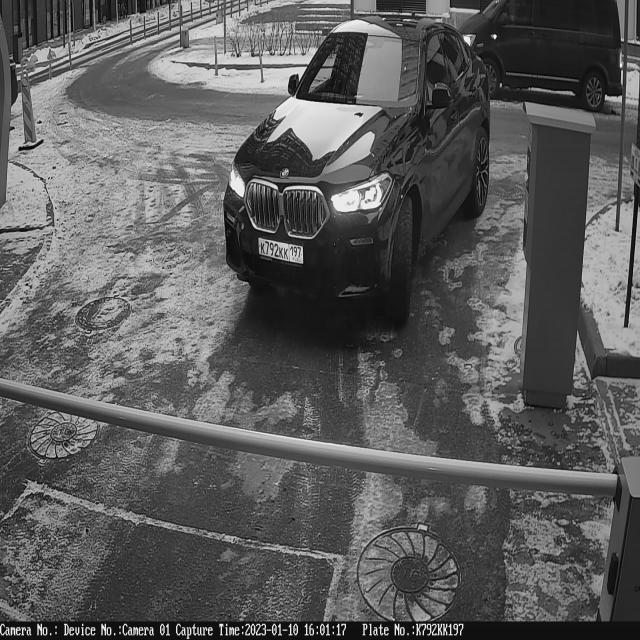car-plate-numbers: (257, 232, 307, 270)
